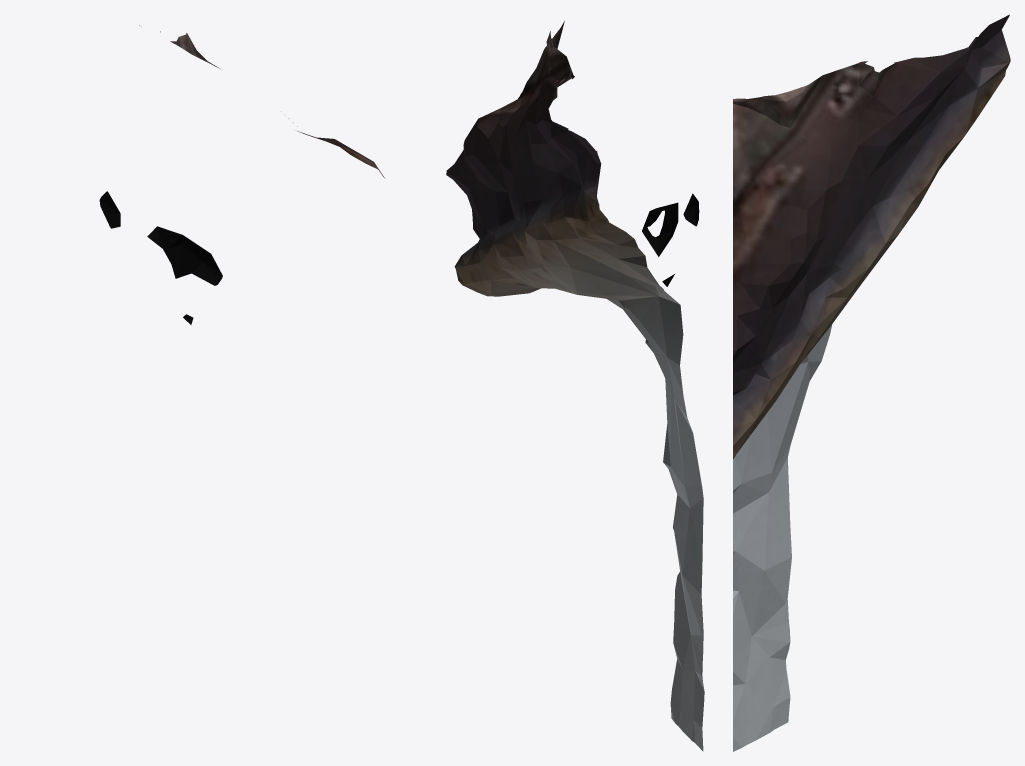
3 views of the same model, side by side, from view 1: azimuth 30°, elevation 25°; view 2: azimuth 150°, elevation 25°; view 3: azimuth 270°, elevation 25° (orthographic). The views are drawn at different scales.
Size of the model in its own units: 0.3664 by 0.8374 by 0.2976.
1 material, 1 textured.
